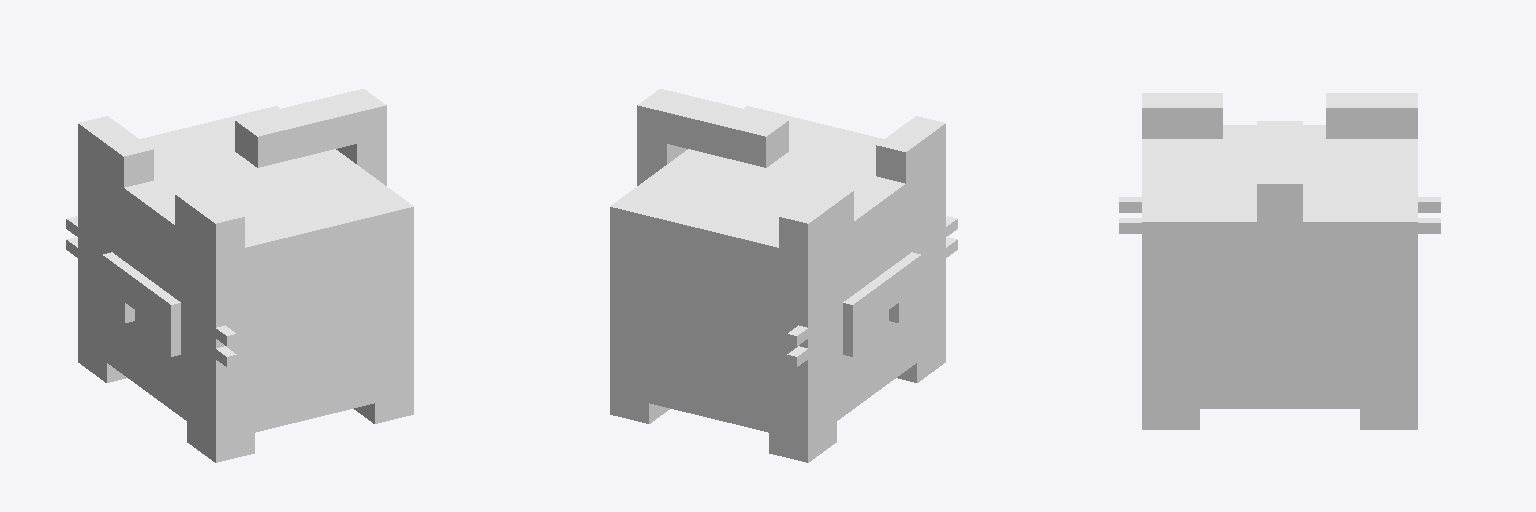
Rendered from Chicken-4.obj.
The picture shows the model from 3 angles: view 1: azimuth 30°, elevation 25°; view 2: azimuth 150°, elevation 25°; view 3: azimuth 270°, elevation 25°; orthographic projection.
Visible parts, largest first — view 1: object 1; view 2: object 1; view 3: object 1.
Part boxes in pixels (bbox=[...]): object 1: bbox=[66, 89, 413, 462]; object 1: bbox=[610, 89, 957, 462]; object 1: bbox=[1119, 93, 1440, 429].
Bounding box in the file's own units: 2.4 × 2.5 × 2.8.